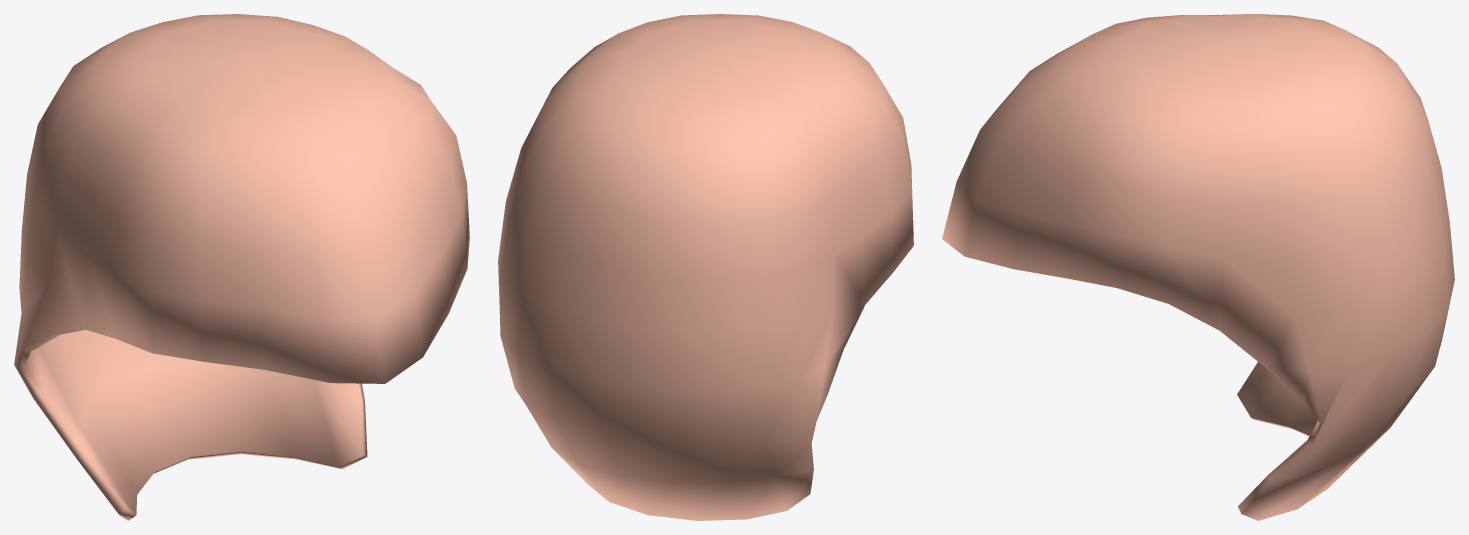
Rendered from hair3.glb.
The picture shows the model from 3 angles, left to right: view 1: azimuth 30°, elevation 25°; view 2: azimuth 150°, elevation 25°; view 3: azimuth 270°, elevation 25°; orthographic projection. The views are drawn at different scales.
Parts seen in each view (by area): view 1: Short Hair; view 2: Short Hair; view 3: Short Hair.
Boxes of the visible parts, x1,y1,x2,y2 form: Short Hair: (14, 14, 469, 520); Short Hair: (498, 14, 913, 520); Short Hair: (942, 14, 1454, 520).
Bounding box in the file's own units: 0.3935 × 0.4906 × 0.5343.
